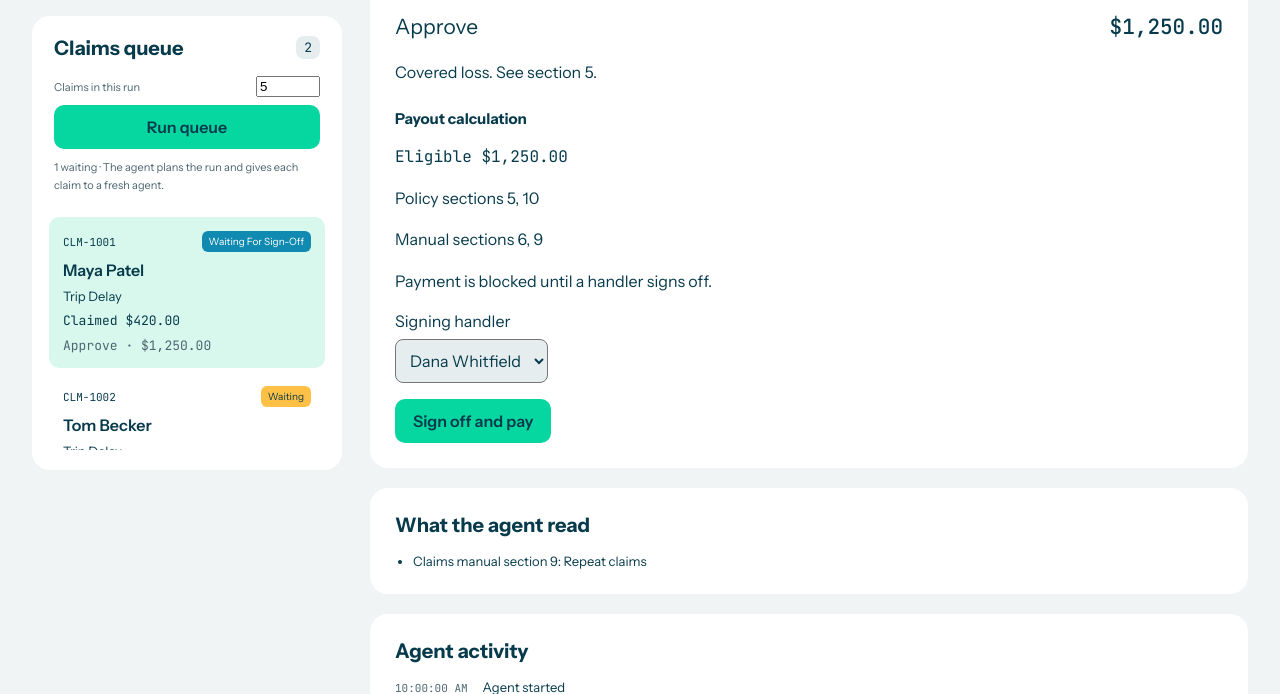
retains sign-off after a payment error and allows payment retry
The image size is (1280, 694).
(page scrolled)
Select "Dana Whitfield" in the dropdown labelled "Signing handler" at (472, 361), box [395,339,548,383]
Click the button "Sign off and pay" at (473, 421), box [395,399,551,443]
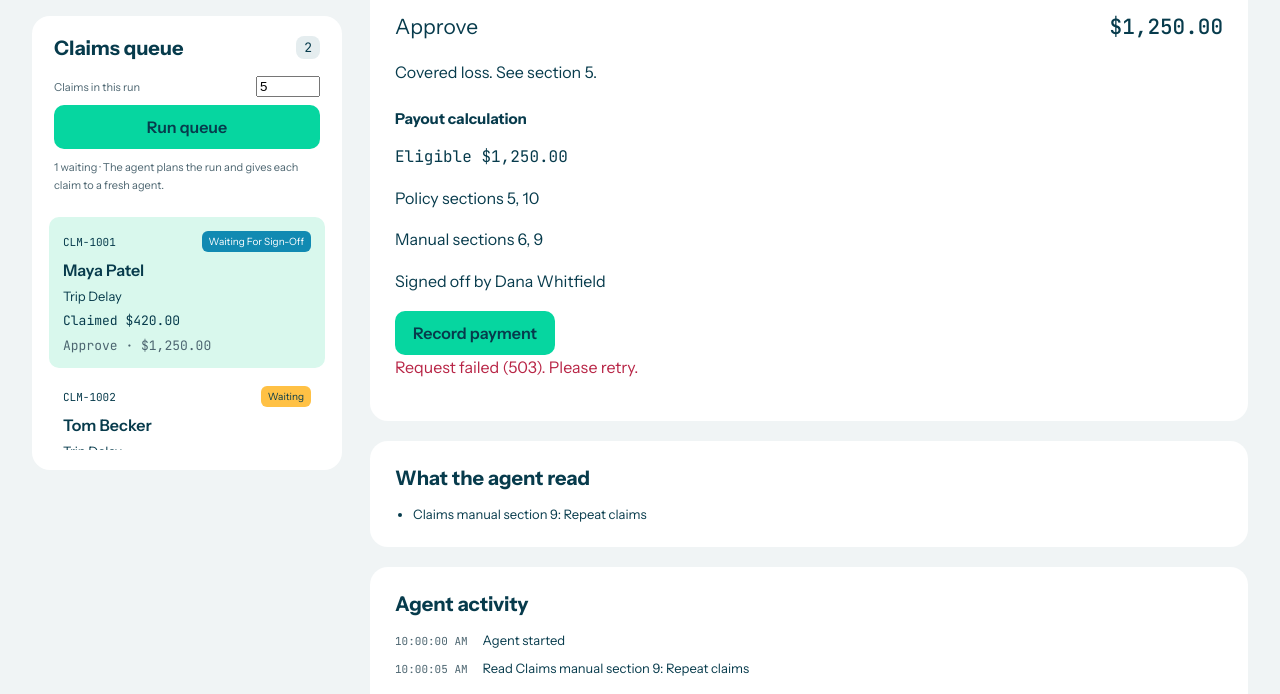
Expected: the message "Request failed (503). Please retry." is shown, [395,357,638,377]
Expected: the text "Signed off by Dana Whitfield" is shown, [395,271,606,291]
Click the button "Record payment" at (475, 333), box [395,311,555,355]
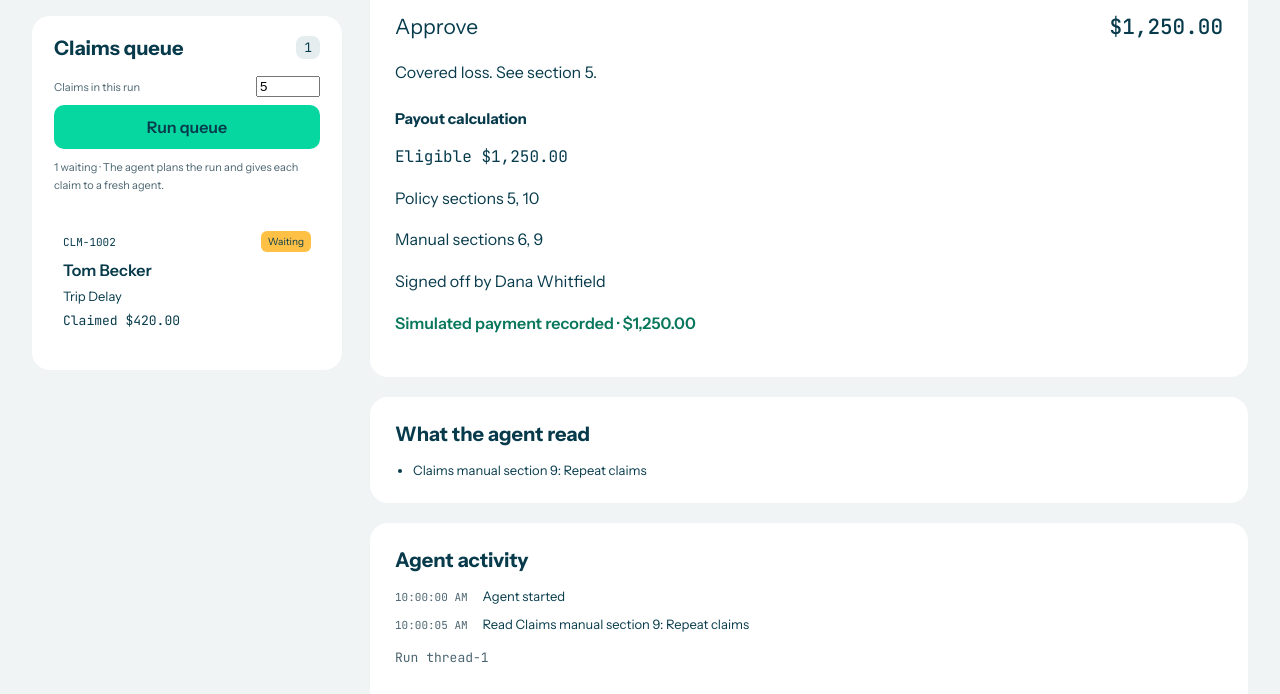
Expected: the text "Simulated payment recorded · $1,250.00" is shown, [395,313,696,333]
Expected: the button "Record payment" is gone
